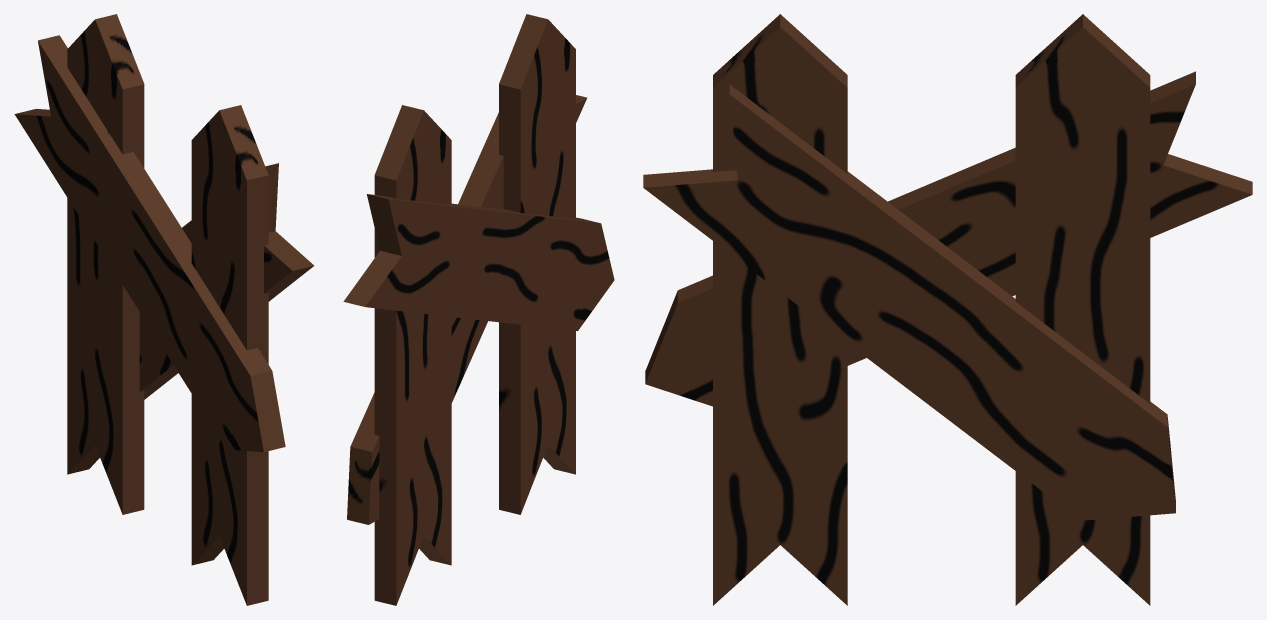
Rendered from fence.glb.
3 renders of one model, left to right at view 1: azimuth 30°, elevation 25°; view 2: azimuth 150°, elevation 25°; view 3: azimuth 270°, elevation 25°, orthographic. The views are drawn at different scales.
Visible parts, largest first — view 1: Cube.002, Cube.001, Cube, Cube.003; view 2: Cube.002, Cube, Cube.001, Cube.003; view 3: Cube.003, Cube, Cube.001, Cube.002.
Boxes of the visible parts, x1,y1,x2,y2 form: Cube.002: [14, 35, 285, 452]; Cube.001: [191, 105, 268, 605]; Cube: [67, 14, 144, 514]; Cube.003: [139, 163, 314, 399]; Cube.002: [343, 194, 614, 331]; Cube: [374, 105, 451, 605]; Cube.001: [499, 14, 575, 514]; Cube.003: [347, 95, 586, 524]; Cube.003: [643, 84, 1175, 520]; Cube: [1015, 14, 1150, 605]; Cube.001: [713, 14, 847, 605]; Cube.002: [645, 71, 1252, 406].
Bounding box in the file's own units: 0.4165 × 3.8 × 3.63.
1 material, 1 textured.
